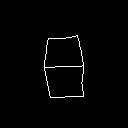cube: (24, 34, 99, 99)
